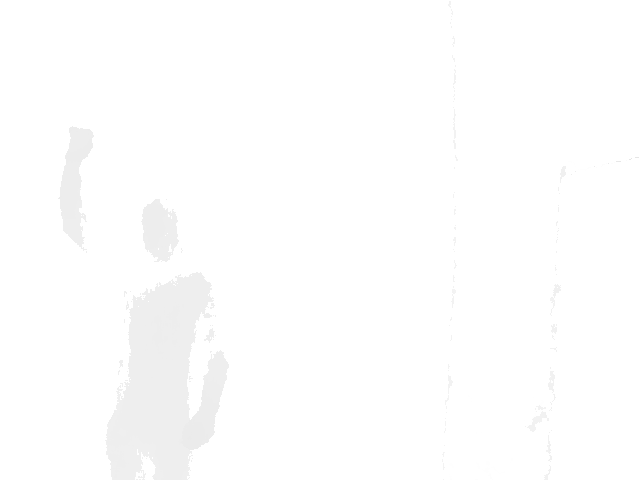hand: (63, 126, 95, 165)
head: (139, 198, 180, 261)
person: (58, 126, 231, 480)
